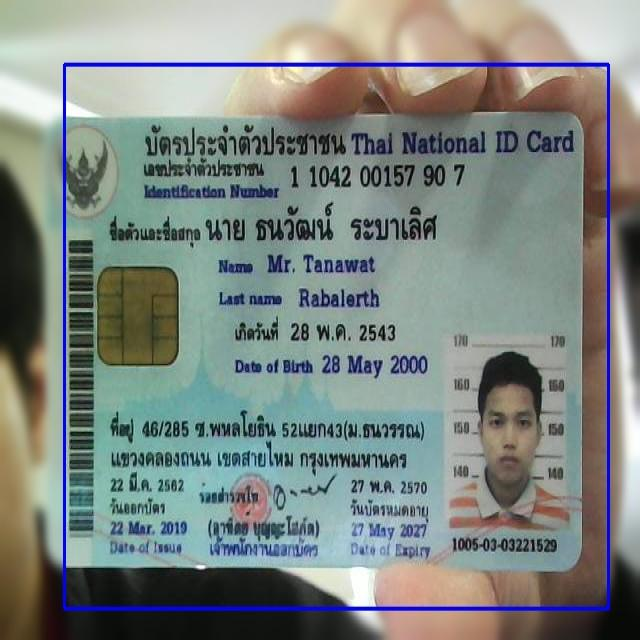Address_th: (106, 403, 436, 476)
Date_of_Birth: (319, 348, 432, 383)
Date_of_Expiry: (345, 518, 436, 542)
Date_of_Issue: (106, 515, 190, 541)
First_Name: (262, 248, 378, 278)
ID_Number: (287, 160, 469, 192)
Image: (446, 334, 572, 538)
Last_Name: (295, 282, 383, 314)
Thai_Name: (204, 199, 445, 248)
